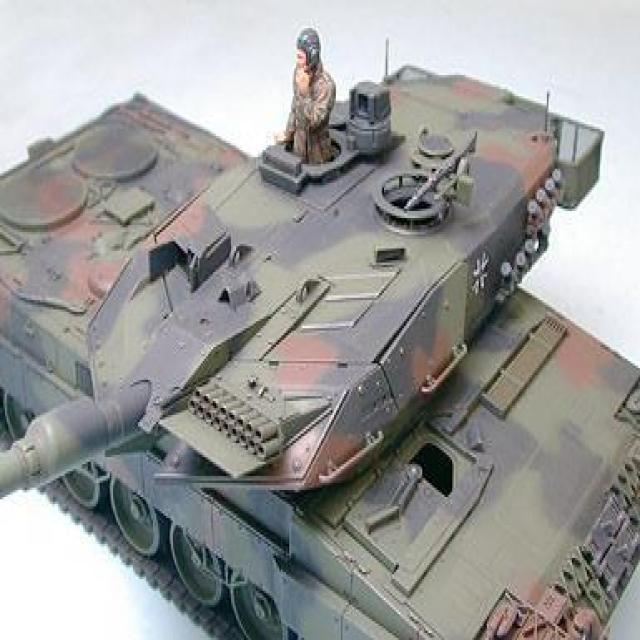MIL_MBT: (1, 23, 576, 626), (151, 135, 574, 627)
